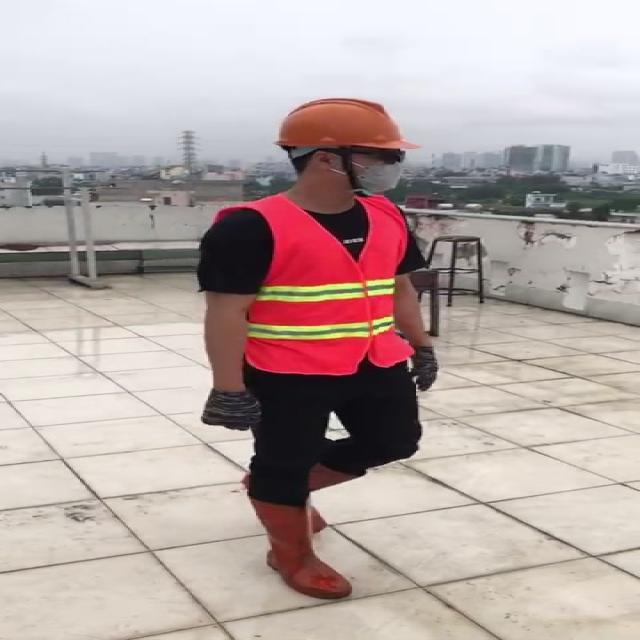boots: (247, 497, 357, 600)
